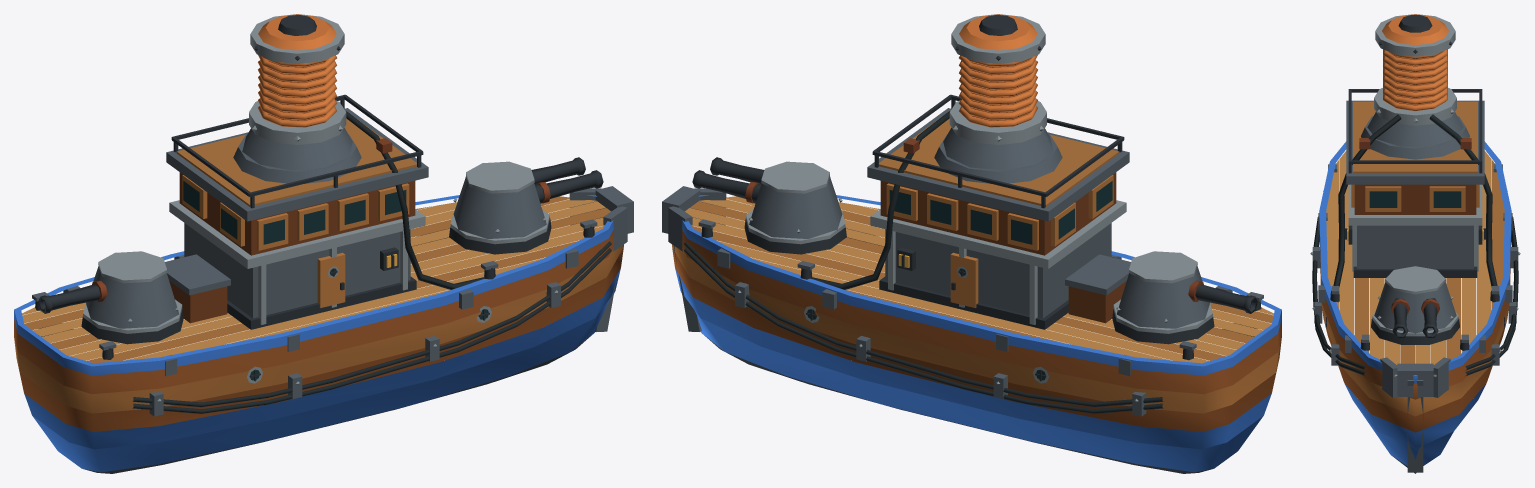
The picture shows the model from 3 angles, left to right: view 1: azimuth 30°, elevation 25°; view 2: azimuth 150°, elevation 25°; view 3: azimuth 270°, elevation 25°; orthographic projection. The views are drawn at different scales.
Parts seen in each view (by area): view 1: 支配者 · 电磁巡洋舰; view 2: 支配者 · 电磁巡洋舰; view 3: 支配者 · 电磁巡洋舰.
Boxes of the visible parts, x1,y1,x2,y2 form: 支配者 · 电磁巡洋舰: (14,14,633,473); 支配者 · 电磁巡洋舰: (662,14,1281,473); 支配者 · 电磁巡洋舰: (1310,14,1520,473).
Size of the model in its own units: 1.65 by 1.07 by 0.6024.
